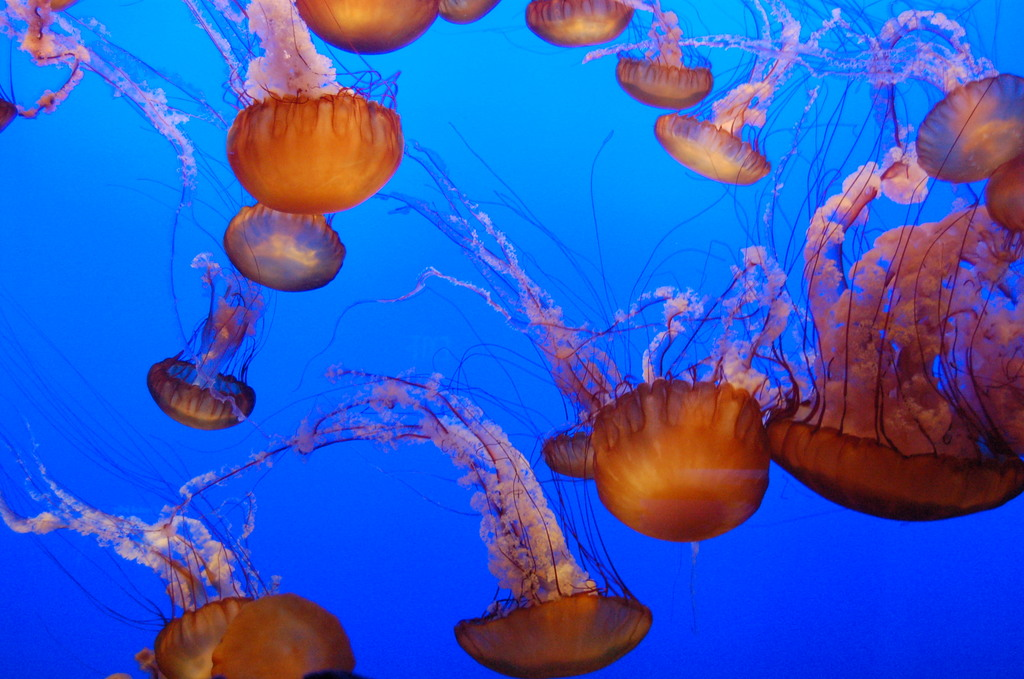Jellyfish: (0, 0, 1023, 678), (142, 229, 277, 444)
